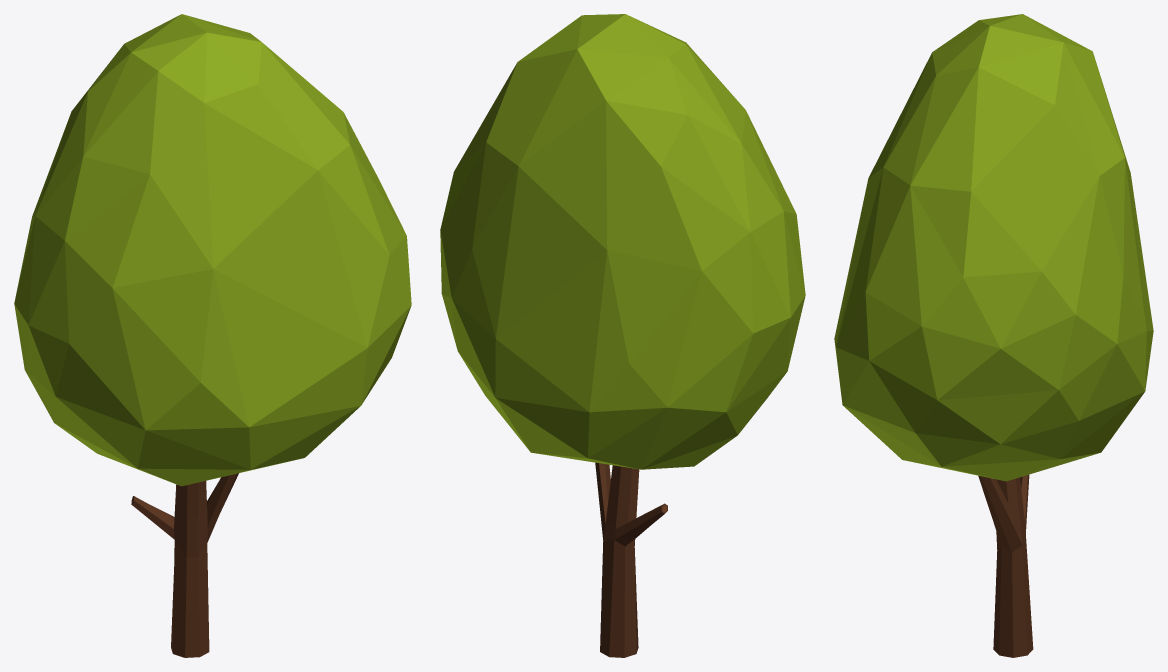
The model's file is tree-1.fbx.
3 renders of one model, left to right at view 1: azimuth 30°, elevation 25°; view 2: azimuth 150°, elevation 25°; view 3: azimuth 270°, elevation 25°, orthographic.
Visible parts, largest first — view 1: tree-1; view 2: tree-1; view 3: tree-1.
Part boxes in pixels (<box>): tree-1: <box>14,14,411,657</box>; tree-1: <box>440,14,805,657</box>; tree-1: <box>834,14,1153,657</box>.
Bounding box in the file's own units: 244 × 425 × 196.
